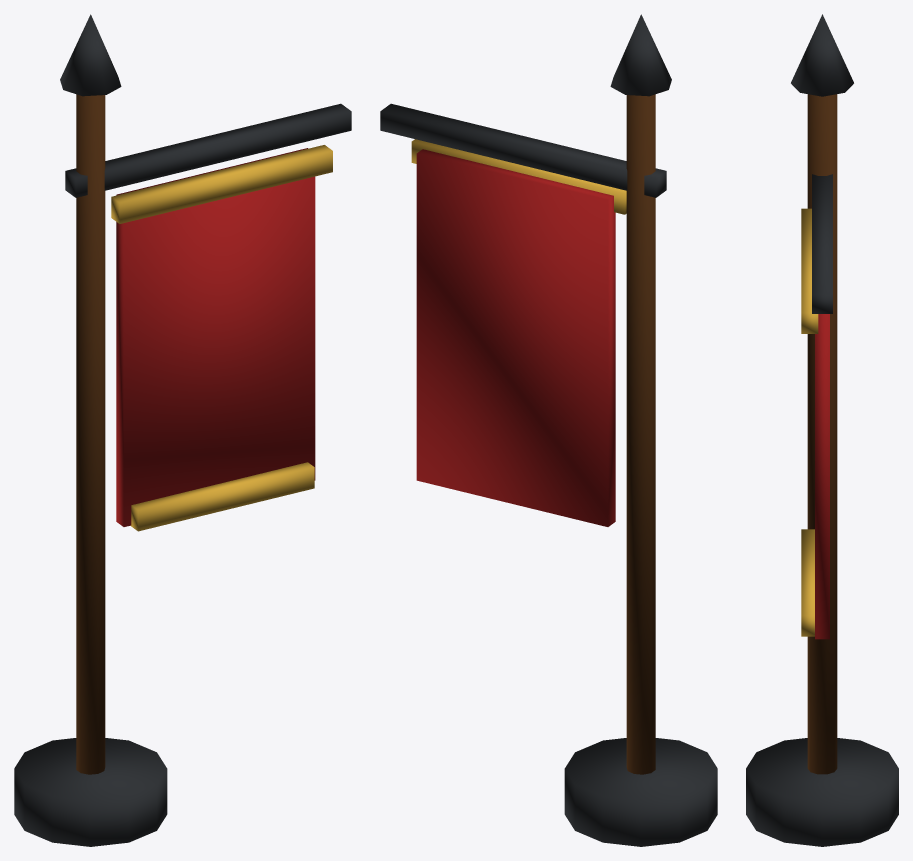
File: banner_post.glb
3 renders of one model, left to right at view 1: azimuth 30°, elevation 25°; view 2: azimuth 150°, elevation 25°; view 3: azimuth 270°, elevation 25°, orthographic.
Parts seen in each view (by area): view 1: banner_cloth, pole, base, crossbar, banner_trim_top, banner_trim_bottom, spear_tip; view 2: banner_cloth, pole, base, crossbar, spear_tip, banner_trim_top; view 3: base, pole, banner_cloth, crossbar, spear_tip, banner_trim_top, banner_trim_bottom.
Boxes of the visible parts, bbox=[...] form: banner_cloth: bbox=[116, 148, 315, 526]; pole: bbox=[76, 94, 105, 774]; base: bbox=[14, 738, 167, 846]; crossbar: bbox=[65, 103, 351, 197]; banner_trim_top: bbox=[111, 145, 332, 223]; banner_trim_bottom: bbox=[130, 462, 314, 531]; spear_tip: bbox=[60, 14, 121, 96]; banner_cloth: bbox=[416, 149, 615, 526]; pole: bbox=[626, 94, 655, 774]; base: bbox=[564, 738, 717, 846]; crossbar: bbox=[380, 103, 666, 197]; spear_tip: bbox=[610, 14, 671, 96]; banner_trim_top: bbox=[411, 139, 626, 214]; base: bbox=[746, 738, 898, 846]; pole: bbox=[807, 94, 837, 774]; banner_cloth: bbox=[815, 314, 829, 639]; crossbar: bbox=[812, 174, 832, 313]; spear_tip: bbox=[791, 14, 853, 96]; banner_trim_top: bbox=[801, 208, 818, 333]; banner_trim_bottom: bbox=[801, 529, 814, 636].
Bounding box in the file's own units: 0.875 × 2.08 × 0.36.
